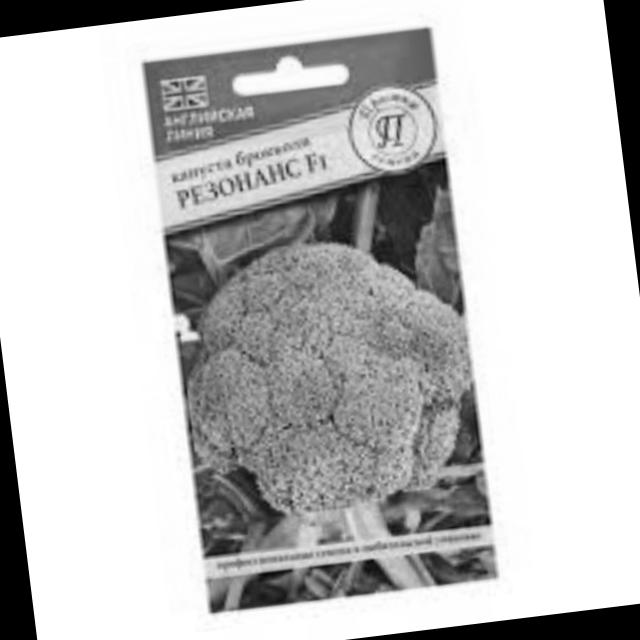broccoli: (174, 204, 533, 528)
